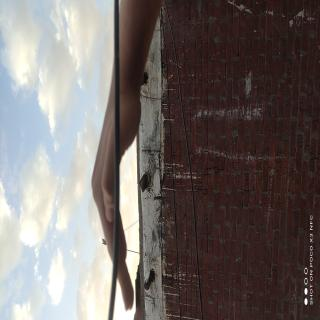HAA: (5, 201, 126, 320)
